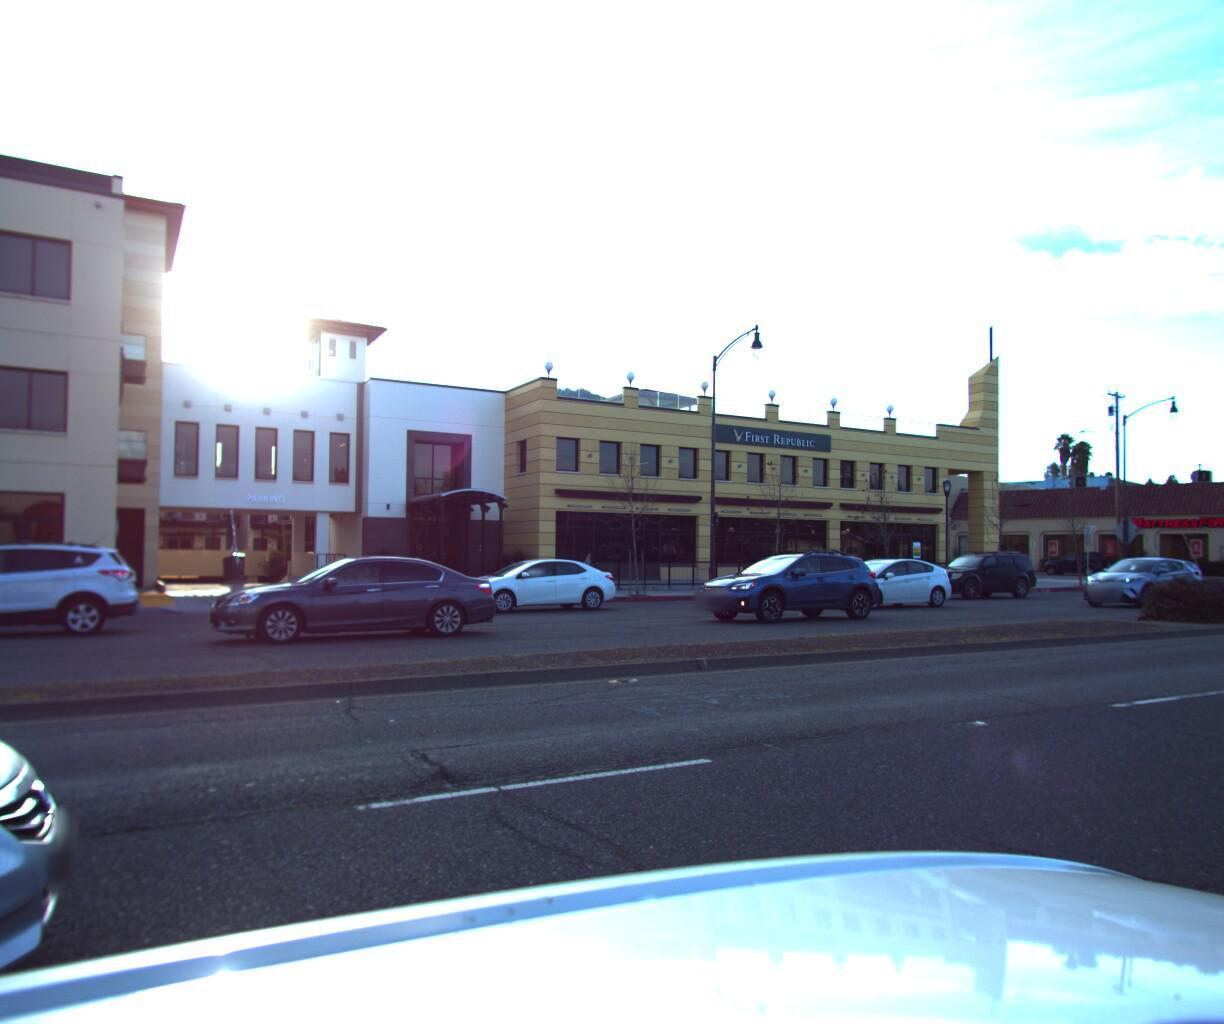car: (197, 540, 507, 650), (681, 540, 891, 624), (0, 536, 141, 644), (438, 554, 617, 611), (806, 551, 962, 606), (1063, 551, 1200, 606), (914, 544, 1039, 594), (1034, 543, 1110, 569), (0, 539, 8, 625)
